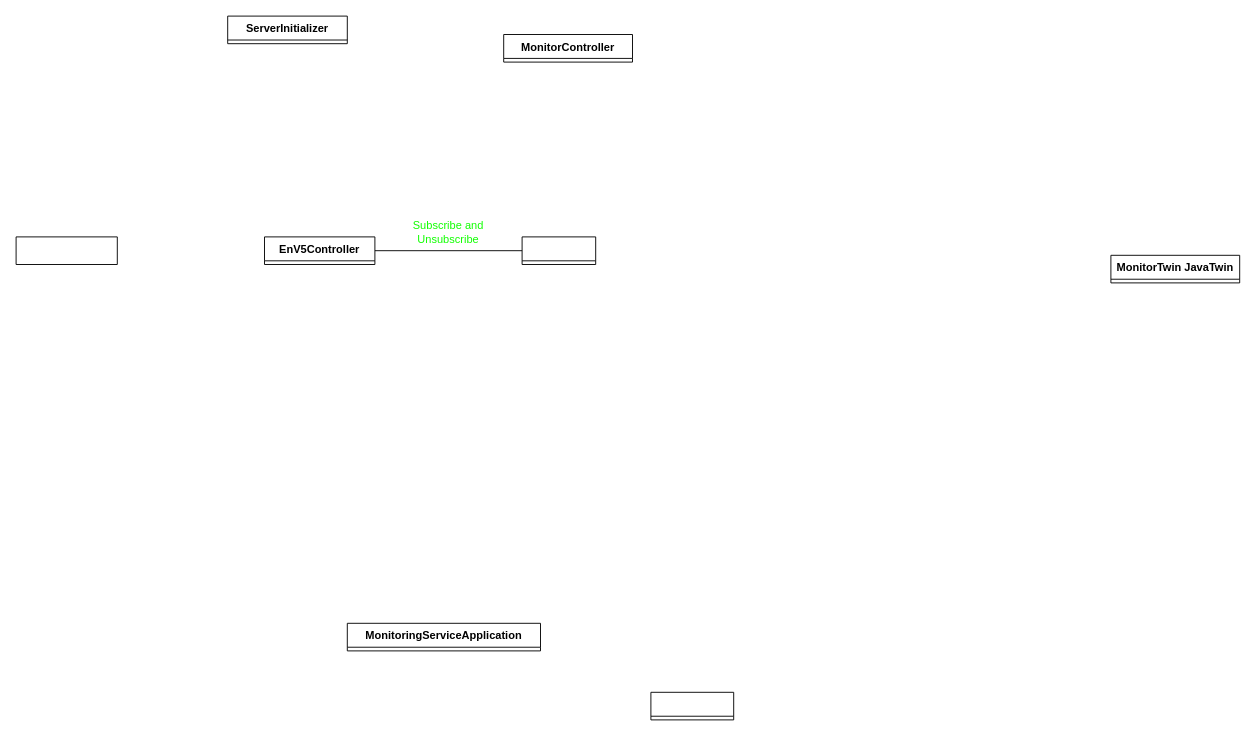
Image size: 1256x736. Some labels were removed from this diagram. The centre of each missing label's shape, as x and y in pixels:
EnV5 Device: [66,250]
TwinData: [558,250]
TwinList: [692,705]
